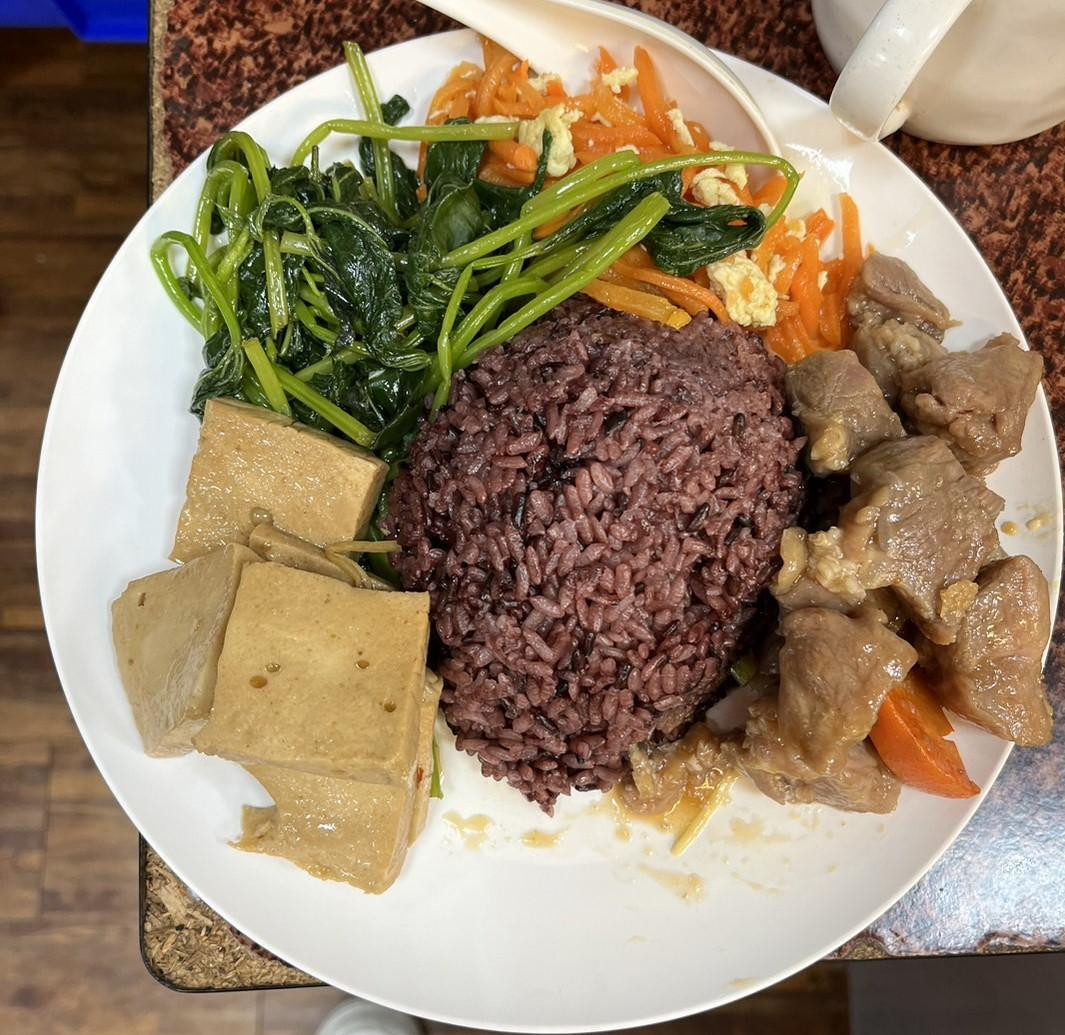big fried chicken leg: (28, 11, 1065, 1035)
braised fish: (390, 310, 791, 802)
braised fish fillet: (166, 110, 768, 438), (98, 390, 448, 892), (420, 58, 854, 348)
braised pork: (770, 253, 1061, 816)
